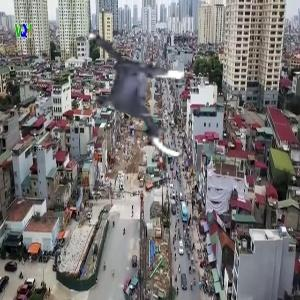drone: (76, 28, 214, 166)
